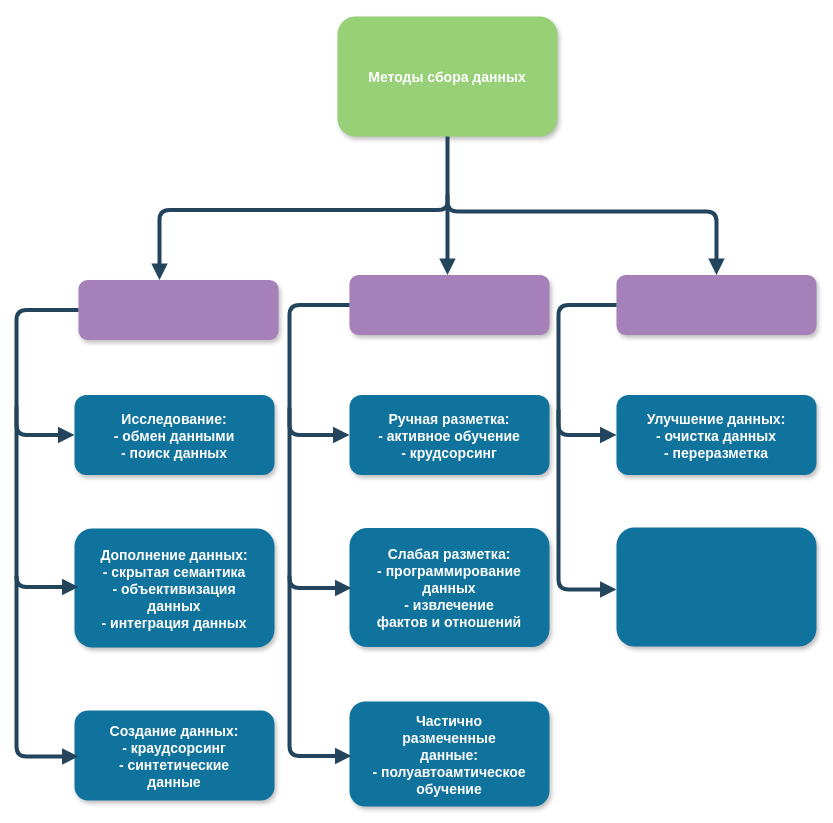
Some shapes in this 833 by 823 pixel diagram are drawn without their labels. Here are the shapes that lost their labels. From the top down, the centre of each, then its label:
point (179, 311): Получение данных
point (450, 306): Разметка данных
point (717, 306): Обработка данных
point (717, 588): Улучшение модели: - создание более робастной модели - трансферное обучение
